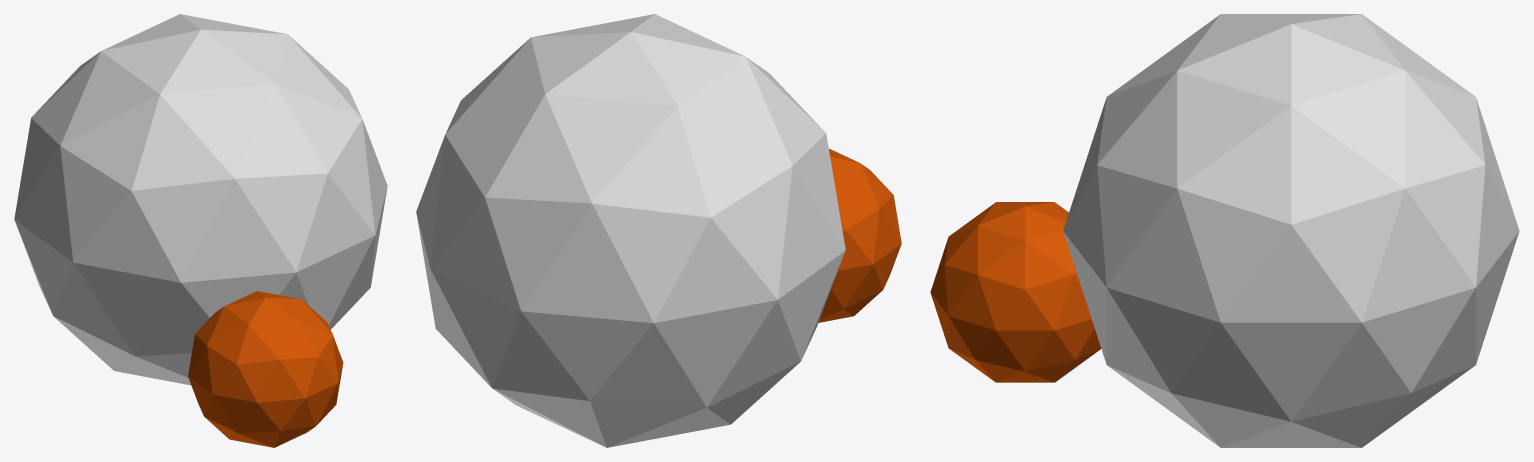
The picture shows the model from 3 angles, left to right: view 1: azimuth 30°, elevation 25°; view 2: azimuth 150°, elevation 25°; view 3: azimuth 270°, elevation 25°; orthographic projection. The views are drawn at different scales.
Visible parts, largest first — view 1: Icosphere.001, Icosphere; view 2: Icosphere.001, Icosphere; view 3: Icosphere.001, Icosphere.
Boxes of the visible parts, x1,y1,x2,y2 form: Icosphere.001: (14, 14, 387, 385); Icosphere: (188, 291, 343, 447); Icosphere.001: (416, 14, 845, 447); Icosphere: (818, 148, 901, 322); Icosphere.001: (1063, 14, 1519, 447); Icosphere: (930, 202, 1101, 382).
Size of the model in its own units: 0.3312 by 0.3483 by 0.4495.
